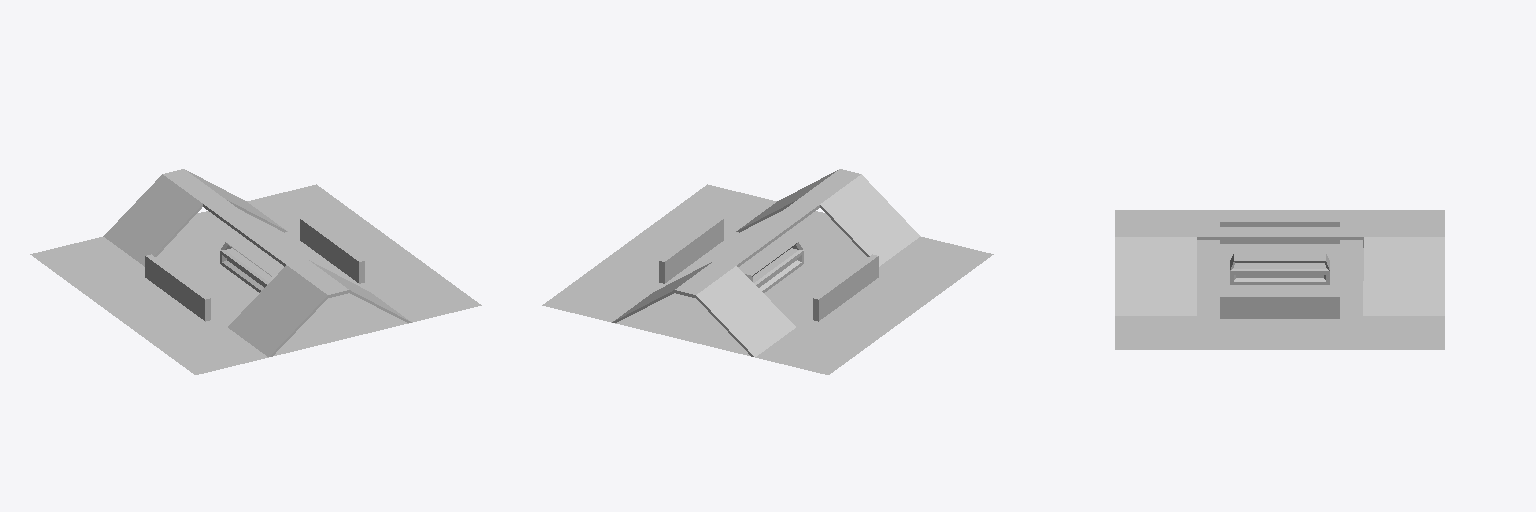
Rendered from onevone.obj.
The picture shows the model from 3 angles: view 1: azimuth 30°, elevation 25°; view 2: azimuth 150°, elevation 25°; view 3: azimuth 270°, elevation 25°; orthographic projection.
Visible parts, largest first — view 1: Floor_Plane, MiddleCover_Cube, SpawnCover.001_Cube.001, SpawnCover_Cube.003; view 2: Floor_Plane, MiddleCover_Cube, SpawnCover.001_Cube.001, SpawnCover_Cube.003; view 3: Floor_Plane, MiddleCover_Cube, SpawnCover_Cube.003, SpawnCover.001_Cube.001.
Part boxes in pixels (left/top/right/bottom): Floor_Plane: left=30, top=169, right=481, bottom=374; MiddleCover_Cube: left=220, top=239, right=281, bottom=292; SpawnCover.001_Cube.001: left=145, top=254, right=210, bottom=321; SpawnCover_Cube.003: left=300, top=217, right=364, bottom=283; Floor_Plane: left=542, top=169, right=993, bottom=374; MiddleCover_Cube: left=741, top=239, right=803, bottom=292; SpawnCover.001_Cube.001: left=813, top=254, right=878, bottom=321; SpawnCover_Cube.003: left=659, top=217, right=723, bottom=283; Floor_Plane: left=1115, top=210, right=1444, bottom=349; MiddleCover_Cube: left=1230, top=254, right=1329, bottom=284; SpawnCover_Cube.003: left=1220, top=294, right=1339, bottom=318; SpawnCover.001_Cube.001: left=1220, top=219, right=1339, bottom=243.
Size of the model in its own units: 96 by 15.33 by 96.